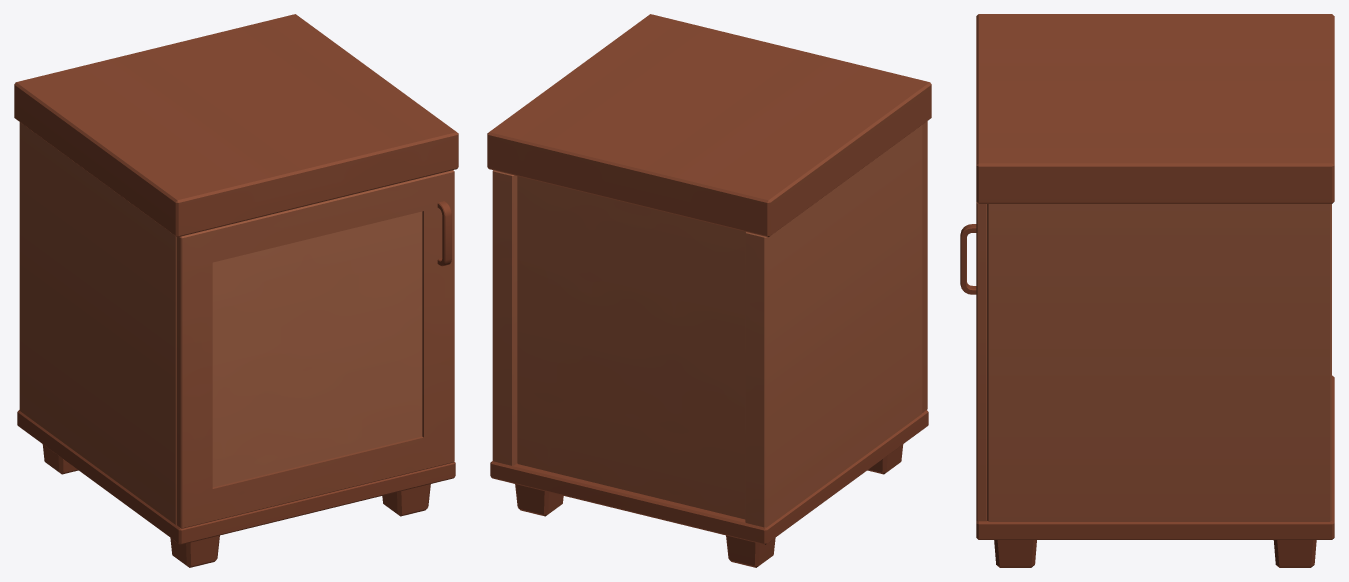
Rendered from BedsideCabinet.glb.
The picture shows the model from 3 angles, left to right: view 1: azimuth 30°, elevation 25°; view 2: azimuth 150°, elevation 25°; view 3: azimuth 270°, elevation 25°; orthographic projection. The views are drawn at different scales.
Visible parts, largest first — view 1: BedsideCabinet, BedsideCabinetDoor; view 2: BedsideCabinet, BedsideCabinetDoor; view 3: BedsideCabinet, BedsideCabinetDoor.
Boxes of the visible parts, bbox=[...] form: BedsideCabinet: bbox=[14, 14, 458, 567]; BedsideCabinetDoor: bbox=[177, 170, 454, 528]; BedsideCabinet: bbox=[487, 14, 931, 567]; BedsideCabinetDoor: bbox=[922, 121, 927, 412]; BedsideCabinet: bbox=[976, 14, 1334, 567]; BedsideCabinetDoor: bbox=[960, 202, 986, 521].
Bounding box in the file's own units: 0.4 × 0.5131 × 0.4177.
1 material, 1 textured.
